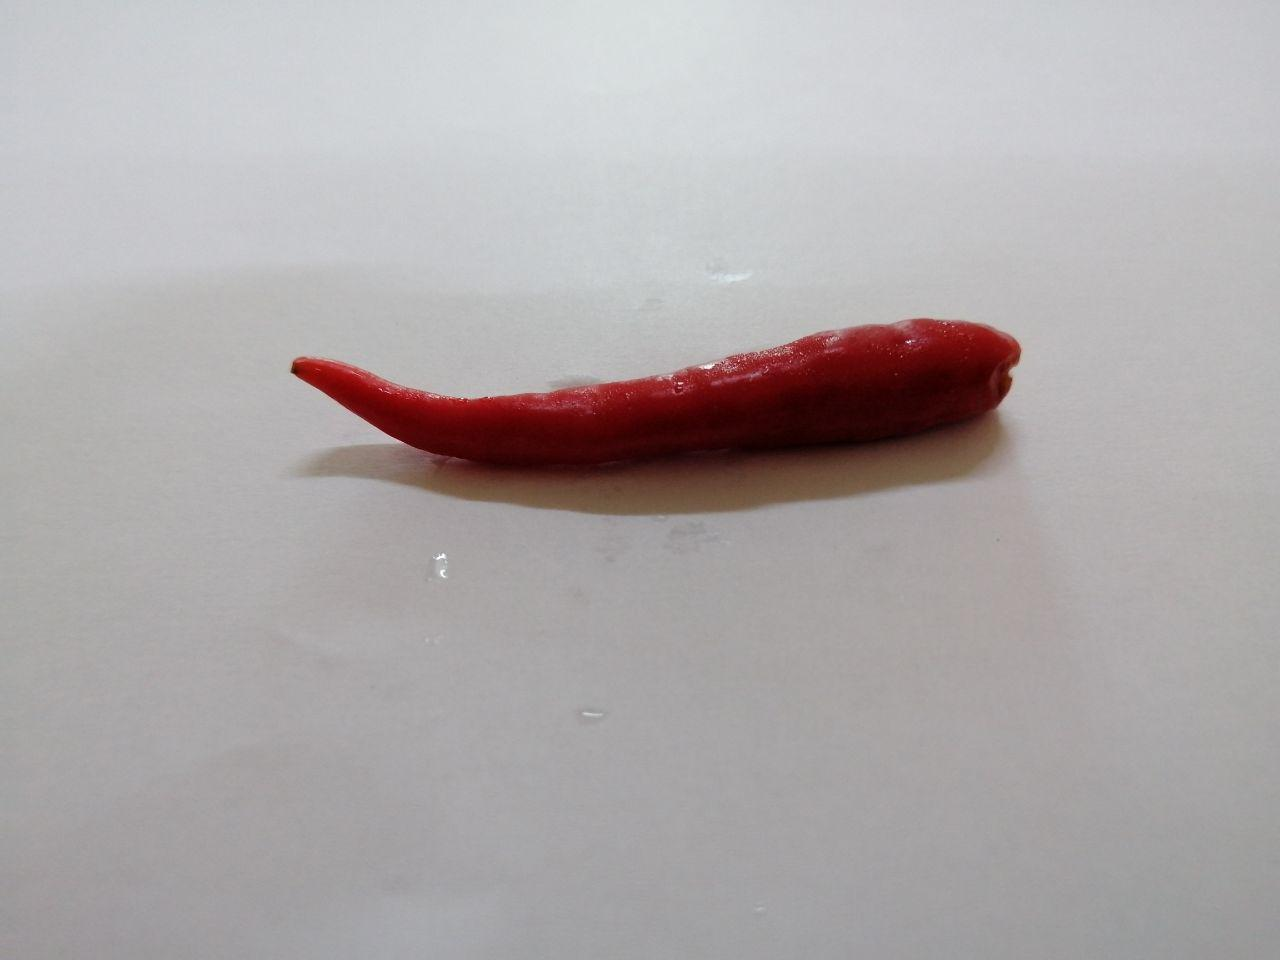lada merah: (285, 296, 1049, 483)
